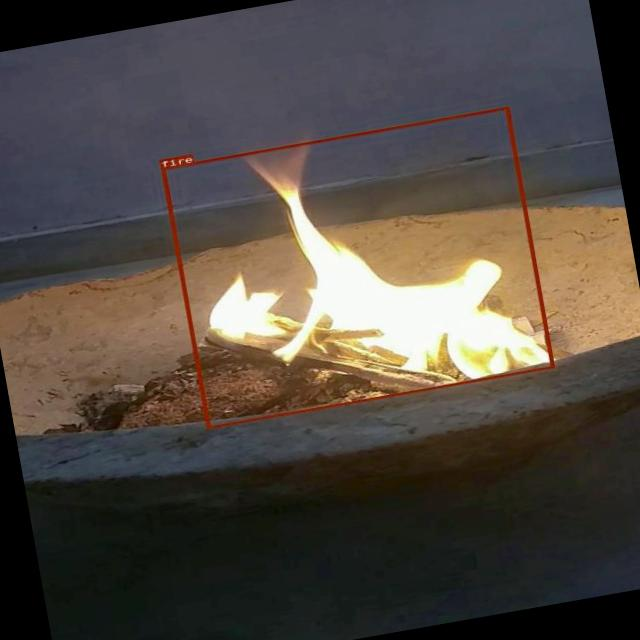fire: (160, 106, 554, 428)
